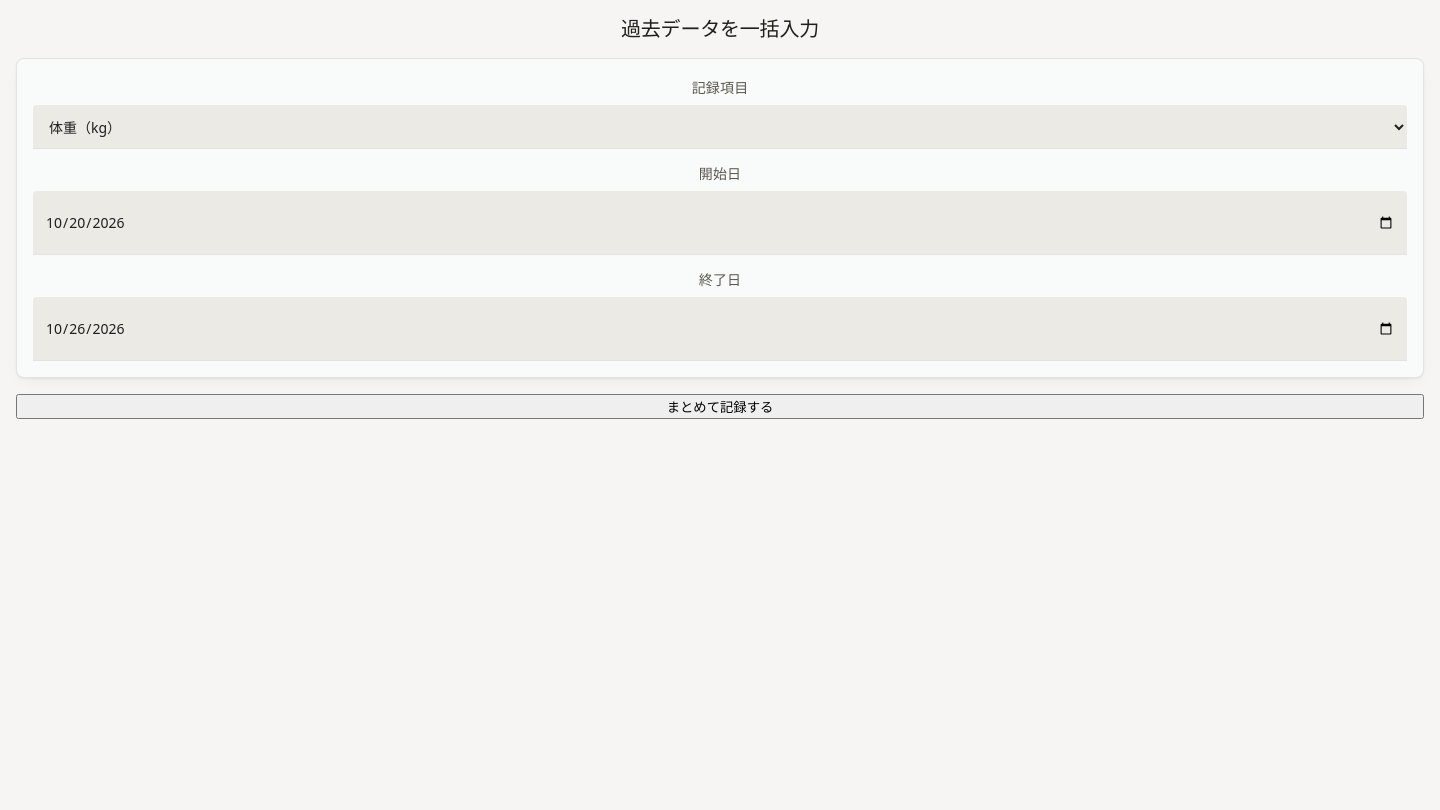
Test: BulkEntryScreen › shows an error and disables submit when the start date is after the end date
Expected: the dropdown named "一括入力する記録項目" shows "体重（kg）", [33, 105, 1407, 149]
In the date field named "一括入力の開始日": x=720, y=223 [33, 191, 1407, 255], type "2026-07-10"
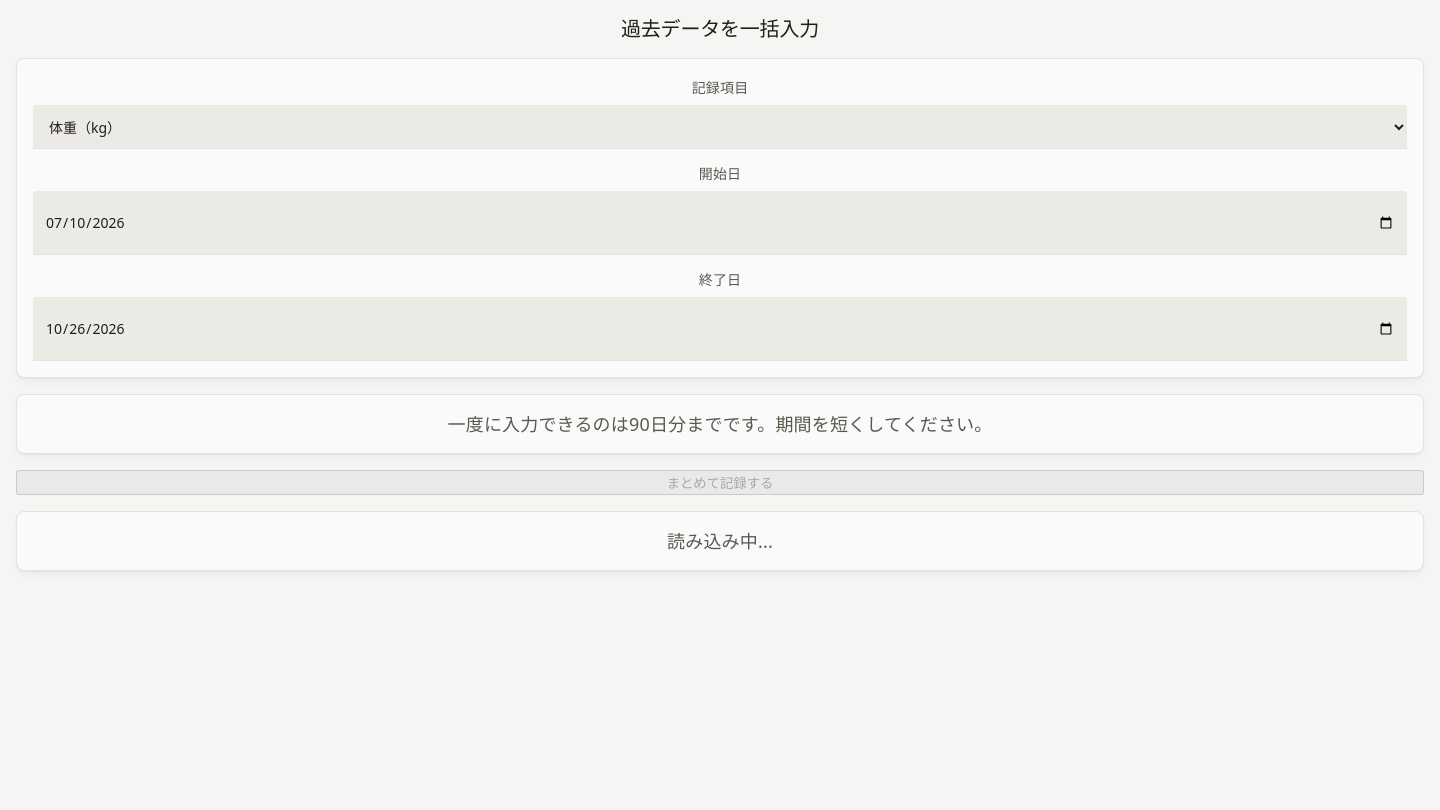
In the date field named "一括入力の終了日": x=720, y=329 [33, 297, 1407, 361], type "2026-07-01"
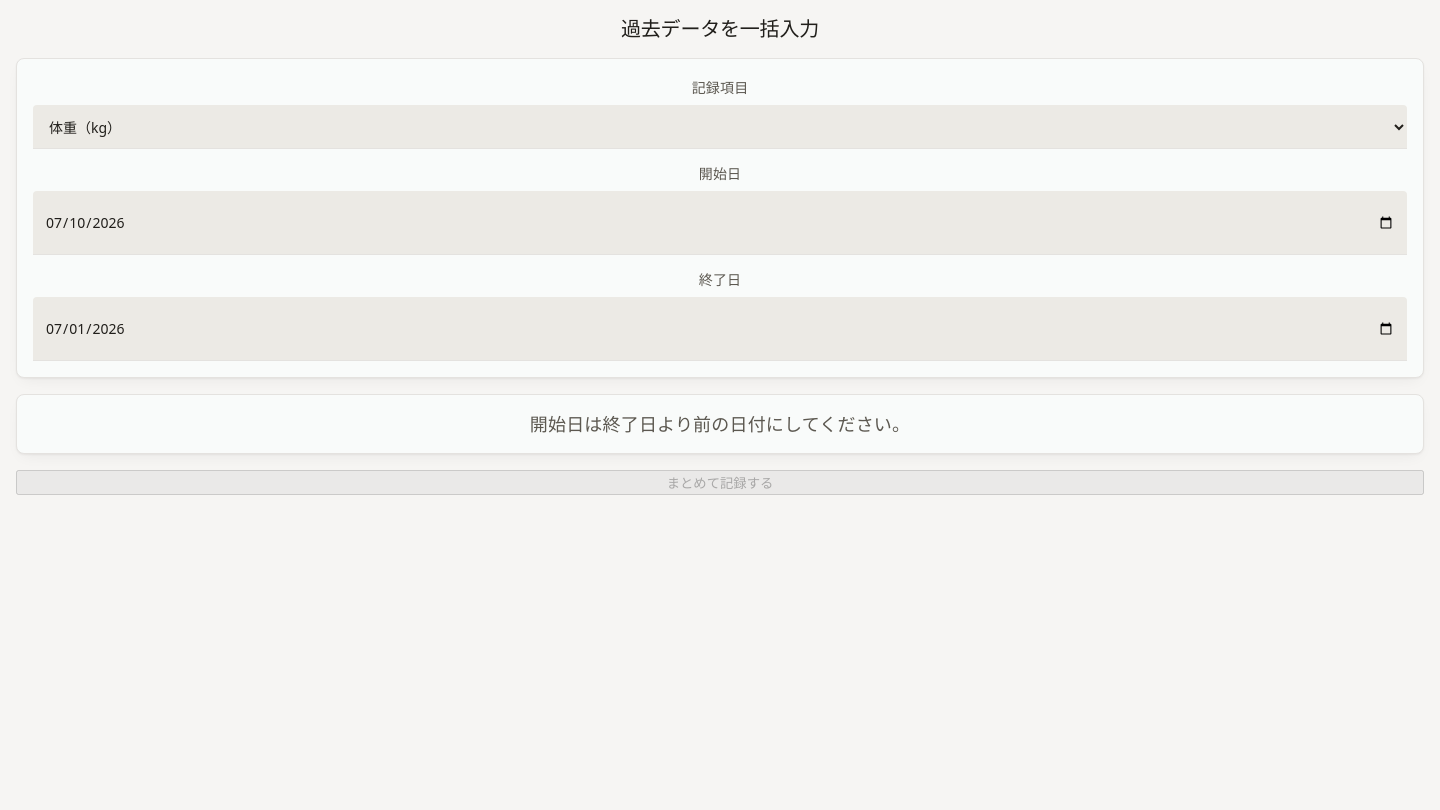
Expected: the button "まとめて記録する" is disabled, [16, 470, 1424, 495]
Expected: the text "開始日は終了日より前の日付にしてください。" is shown, [16, 394, 1424, 454]
